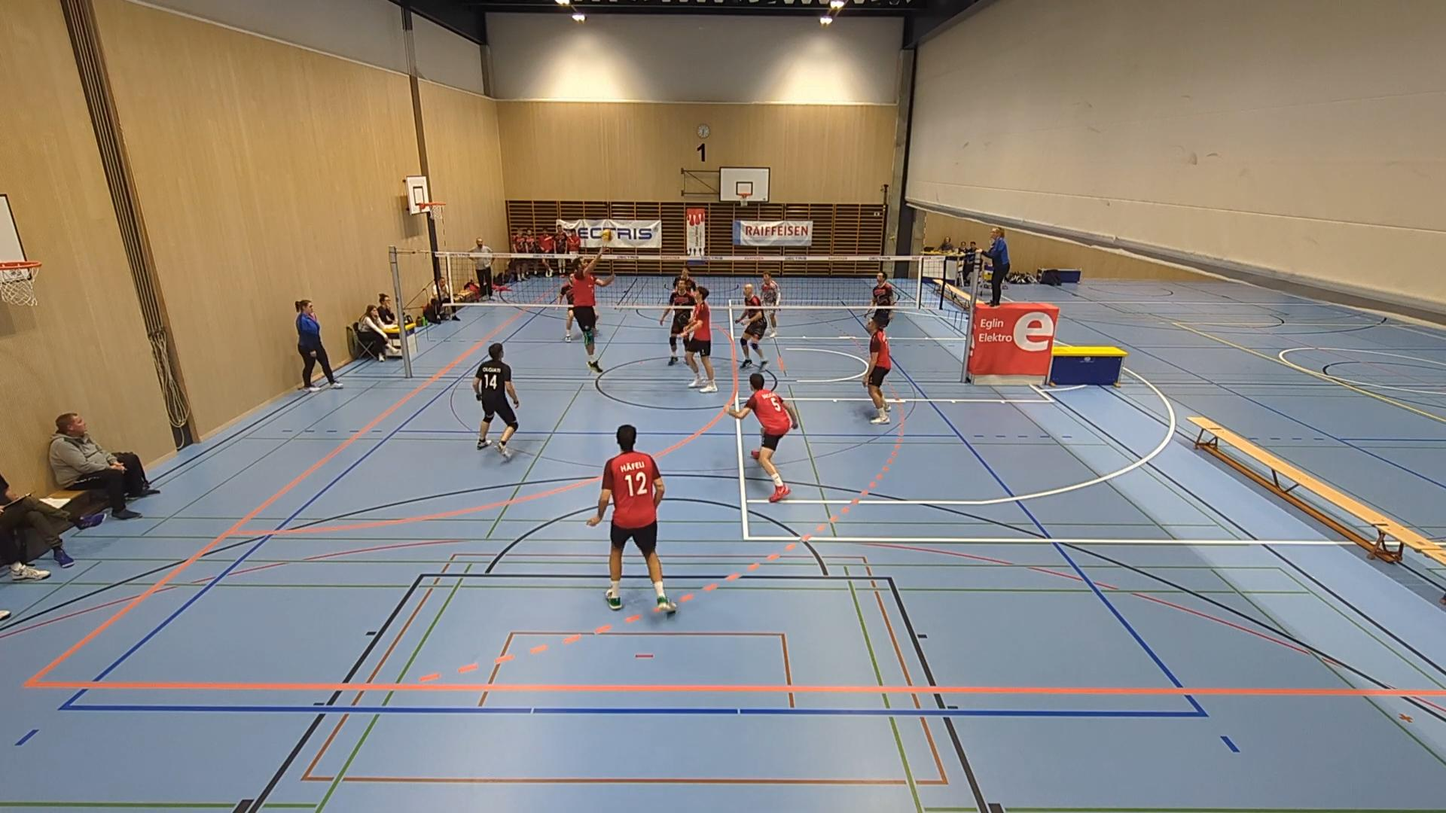attacco: (572, 249, 625, 377)
